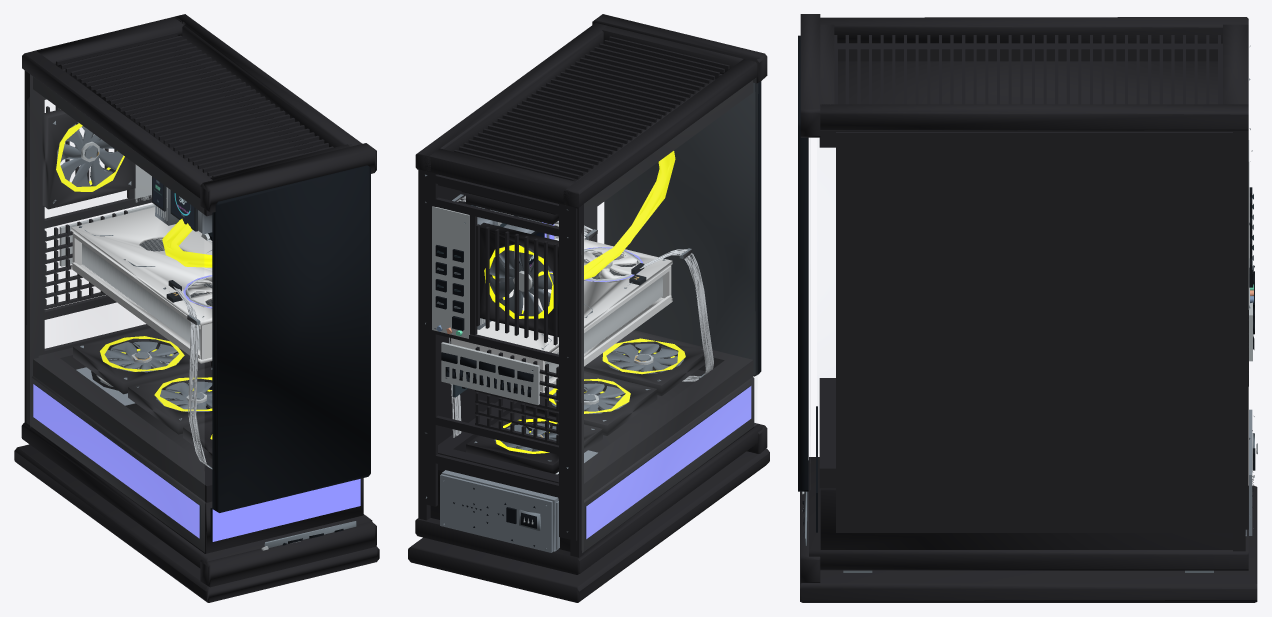
Rendered from display88-ember.glb.
The picture shows the model from 3 angles, left to right: view 1: azimuth 30°, elevation 25°; view 2: azimuth 150°, elevation 25°; view 3: azimuth 270°, elevation 25°; orthographic projection. The views are drawn at different scales.
Parts seen in each view (by area): view 1: s83-surface-4cfc3cb1-9856-4fb4-a152-f14a387ba0e1, s83-surface-f70483bc-ff7a-484f-bfb0-9f1615159147, s83-surface-82607e57-f503-4971-a1fd-5ad32b08bc5e, s83-surface-80b873ba-02c8-462f-bae4-55b5621b8a87; view 2: s83-surface-4cfc3cb1-9856-4fb4-a152-f14a387ba0e1, s83-surface-8caa669d-0b8e-45da-9e77-59022fc3102a, s83-surface-f70483bc-ff7a-484f-bfb0-9f1615159147, s83-surface-82607e57-f503-4971-a1fd-5ad32b08bc5e; view 3: s83-surface-4cfc3cb1-9856-4fb4-a152-f14a387ba0e1.
Part boxes in pixels (bbox=[...]): s83-surface-4cfc3cb1-9856-4fb4-a152-f14a387ba0e1: bbox=[14, 14, 379, 602]; s83-surface-f70483bc-ff7a-484f-bfb0-9f1615159147: bbox=[33, 275, 360, 541]; s83-surface-82607e57-f503-4971-a1fd-5ad32b08bc5e: bbox=[56, 123, 212, 439]; s83-surface-80b873ba-02c8-462f-bae4-55b5621b8a87: bbox=[171, 190, 194, 228]; s83-surface-4cfc3cb1-9856-4fb4-a152-f14a387ba0e1: bbox=[408, 14, 769, 602]; s83-surface-8caa669d-0b8e-45da-9e77-59022fc3102a: bbox=[604, 82, 755, 375]; s83-surface-f70483bc-ff7a-484f-bfb0-9f1615159147: bbox=[542, 222, 751, 538]; s83-surface-82607e57-f503-4971-a1fd-5ad32b08bc5e: bbox=[484, 151, 685, 453]; s83-surface-4cfc3cb1-9856-4fb4-a152-f14a387ba0e1: bbox=[798, 14, 1257, 602].
Bounding box in the file's own units: 1.32 × 2.99 × 2.53.
6 materials, 5 textured.
